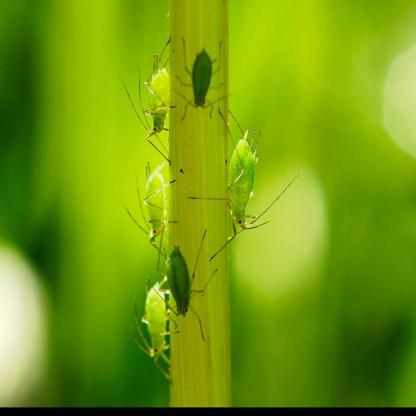aphid: (128, 272, 193, 377), (222, 113, 268, 237), (157, 231, 215, 316), (133, 43, 184, 139), (139, 151, 179, 249), (183, 38, 230, 120)
